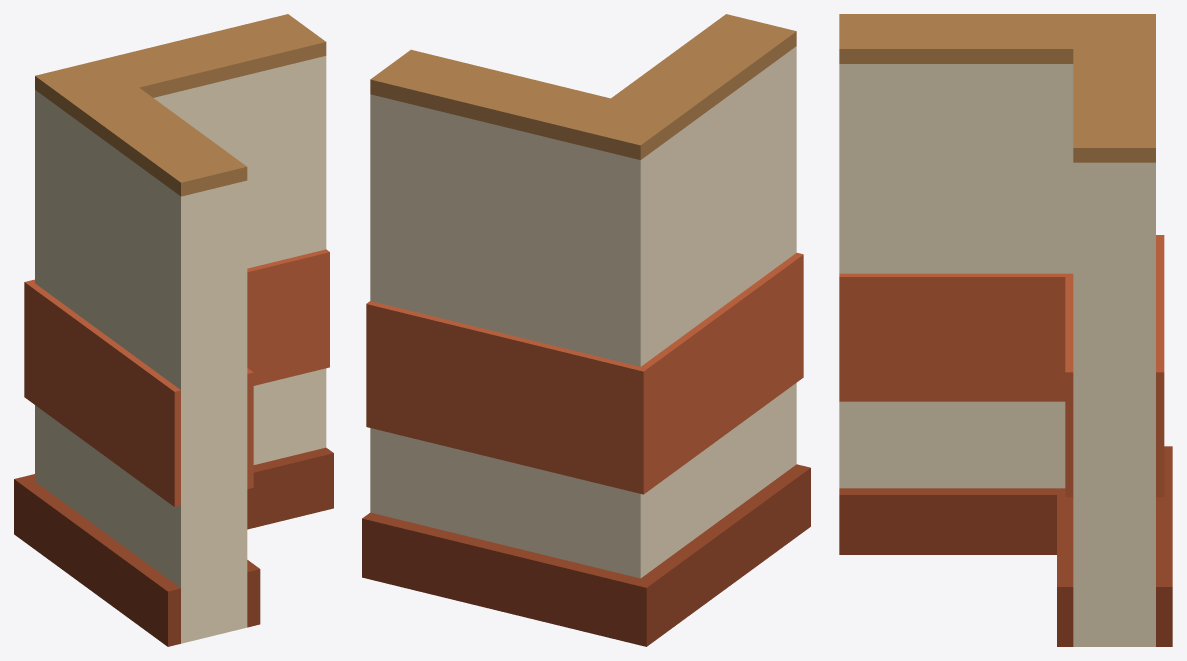
The model's file is partition-full-elbow.glb.
The picture shows the model from 3 angles, left to right: view 1: azimuth 30°, elevation 25°; view 2: azimuth 150°, elevation 25°; view 3: azimuth 270°, elevation 25°; orthographic projection. The views are drawn at different scales.
Visible parts, largest first — view 1: partition-full-elbow; view 2: partition-full-elbow; view 3: partition-full-elbow.
Boxes of the visible parts, left/top/right/bottom form: partition-full-elbow: left=14, top=14, right=333, bottom=646; partition-full-elbow: left=362, top=14, right=810, bottom=646; partition-full-elbow: left=839, top=14, right=1172, bottom=646.
Bounding box in the file's own units: 0.605 × 1 × 0.605.
1 material, 1 textured.
